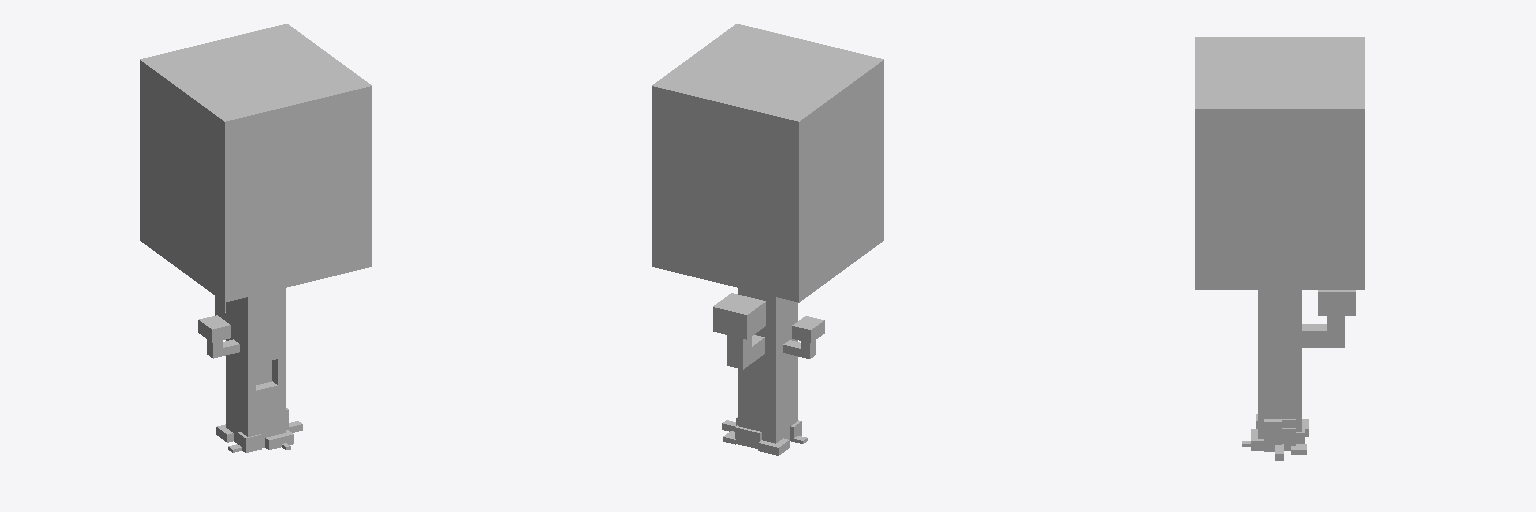
Rendered from Oak_tree (Stage 5).obj.
3 views of the same model, side by side, from view 1: azimuth 30°, elevation 25°; view 2: azimuth 150°, elevation 25°; view 3: azimuth 270°, elevation 25° (orthographic).
Parts seen in each view (by area): view 1: object 1; view 2: object 1; view 3: object 1.
Boxes of the visible parts, <box> form: object 1: <box>140,24,371,452</box>; object 1: <box>652,24,883,455</box>; object 1: <box>1195,37,1364,460</box>.
Size of the model in its own units: 9.4 by 22.3 by 9.4.